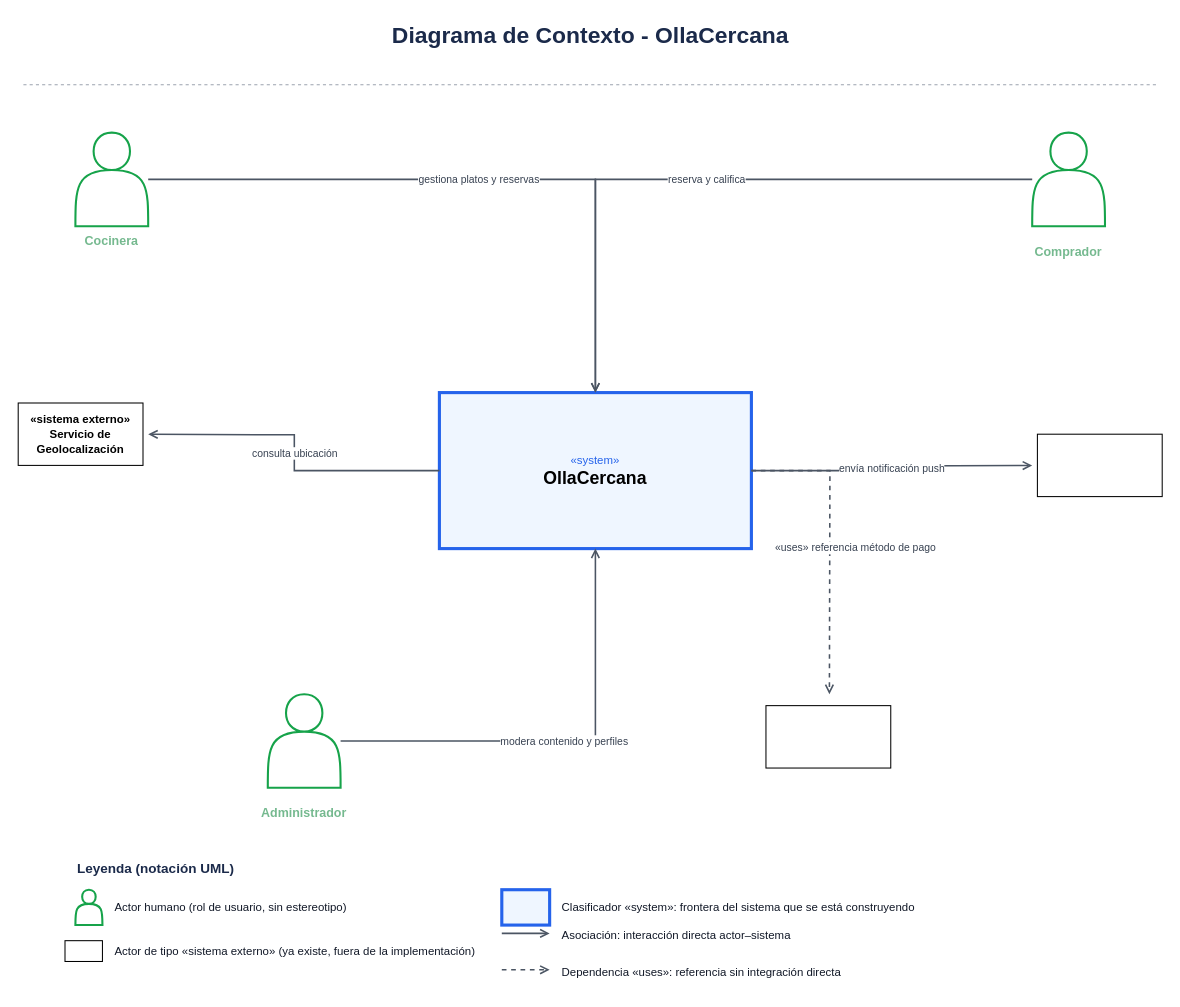
This 1180x1007 diagram has some shape labels left out. Here are the shapes that lost their labels. From the top down, the centre of each, then its label:
point (1099, 465): «sistema externo» Firebase Cloud Messaging (FCM)
point (828, 736): «sistema externo» Medios de pago contra entrega
